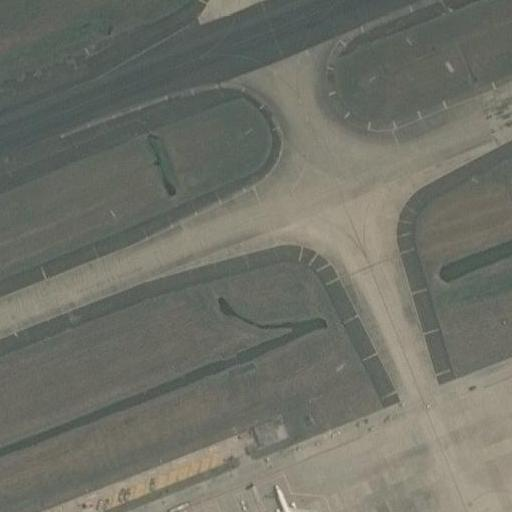Aircraft: (250, 470, 314, 512)
